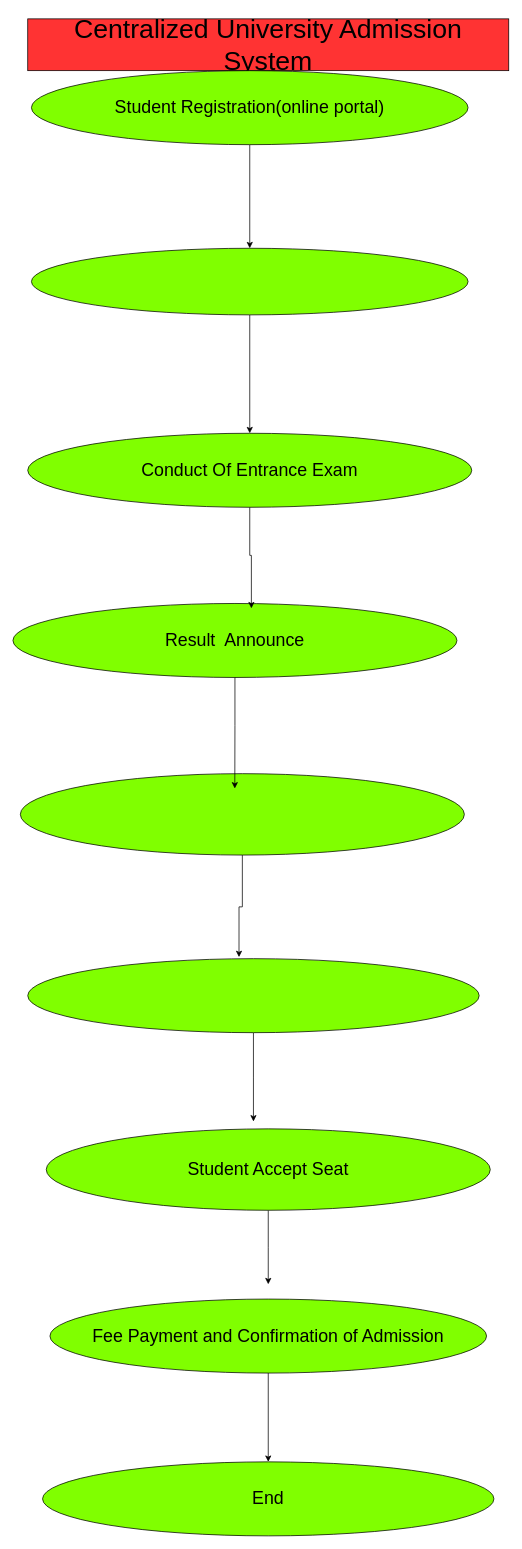
Image size: 522x1549. Some labels were removed from this diagram. Here are the shapes that lost their labels. From the top down, the centre of each, then its label:
(249,281): Application submition
(242,814): Online Counseling
(253,995): Document Verification
